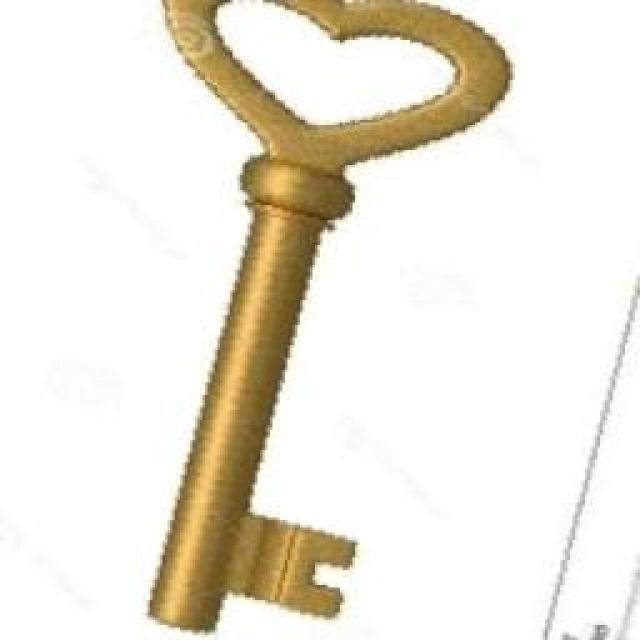anahtar: (142, 0, 524, 638)
